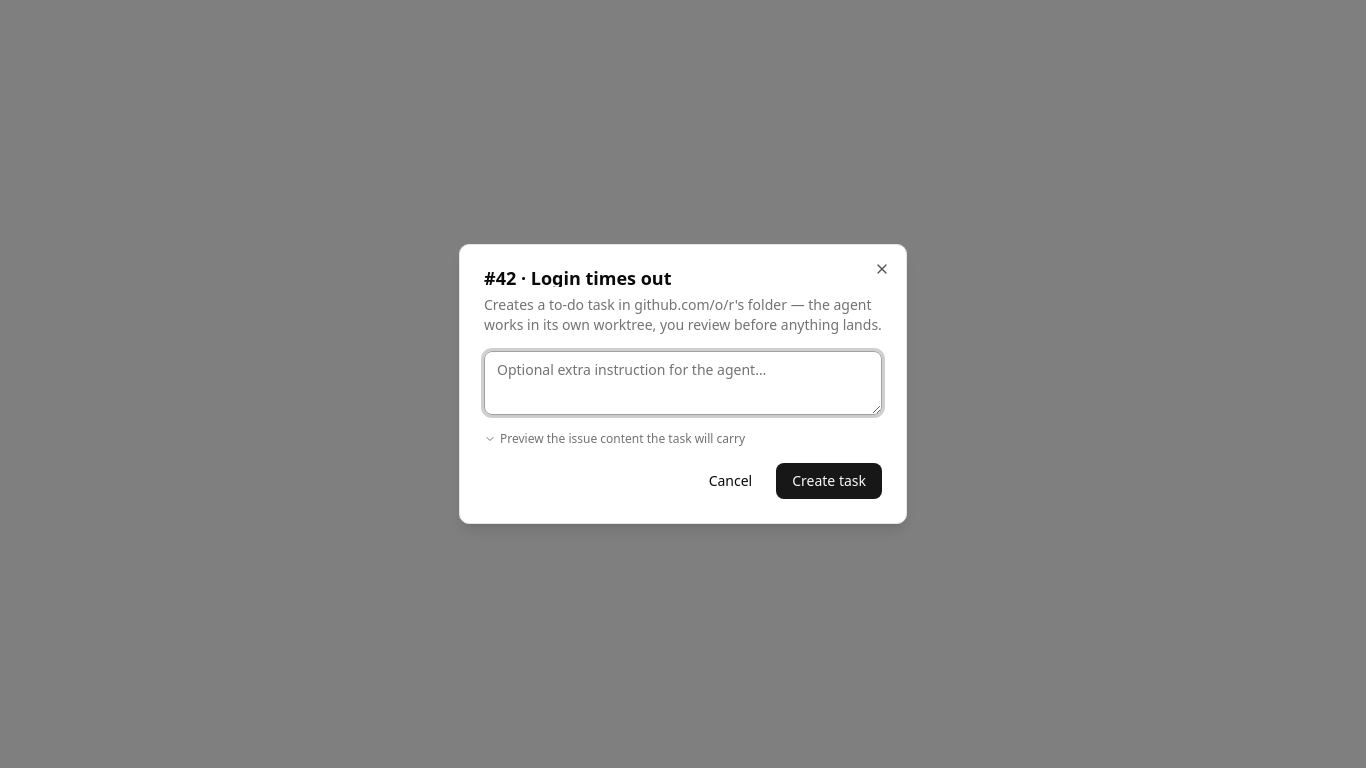
it: ForgeStartDialog › names the remote the folder actually points at on a mismatch
Click the button "Create task" at (829, 481), box [776,463,882,499]
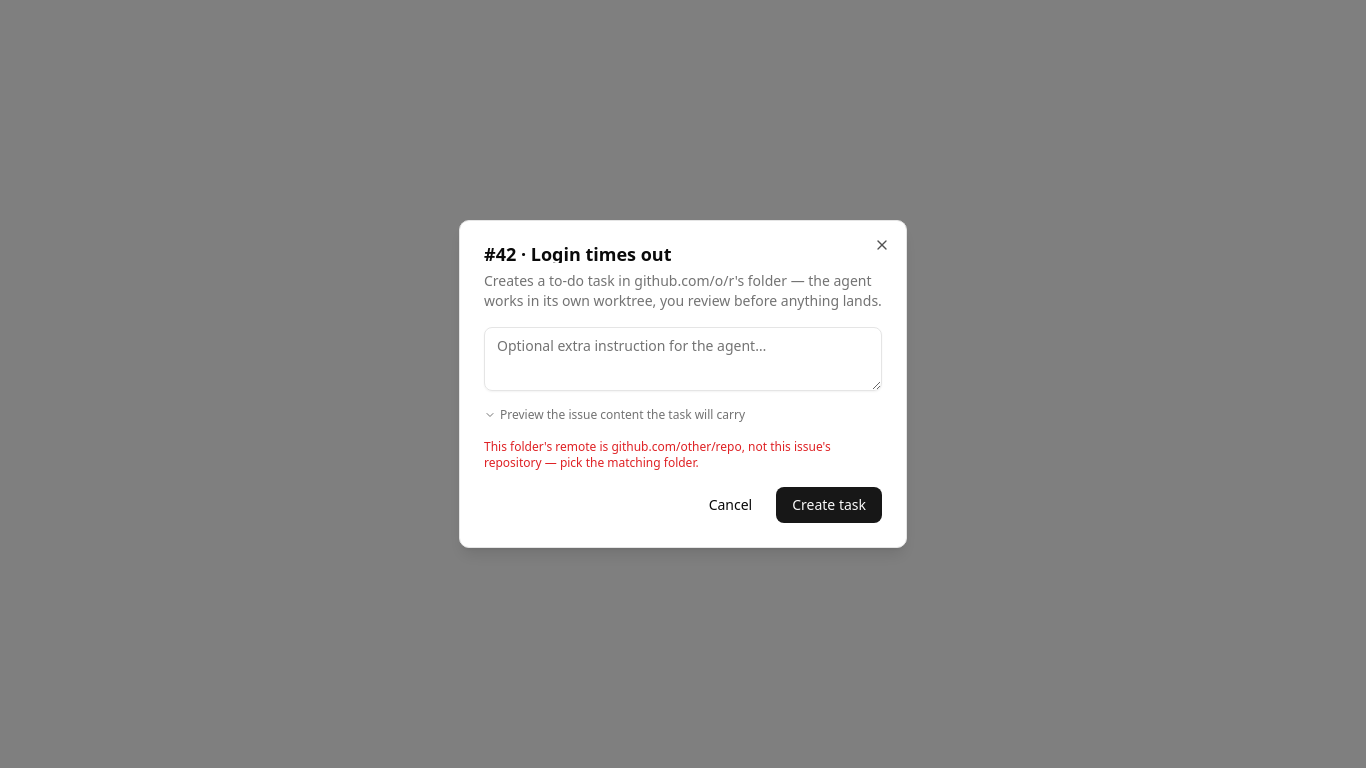
Expected: the text "github.com/other/repo" is shown, [484,438,831,471]
